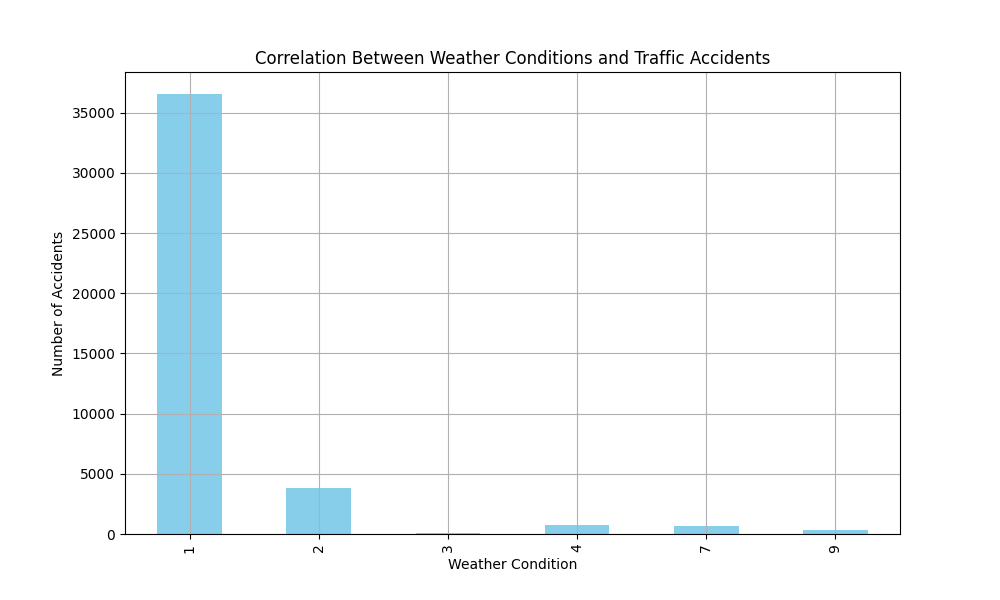

This screenshot's page, from the dashboard's own definition file:
{"tool":"tableau","page":{"name":"Dashboard 1","canvas":[1000,1000],"units":"permille","ordinal":0},"visuals":[{"type":"worksheet","title":"Sheet 2","mark":"Bar","rows":["count"],"cols":["date","date"],"box":[1.8,480.7,991,499.4]}]}

Visuals, with their boxes on the dashboard's canvas, which has no fixed pixel size, in thousandths of its width and height (x1, y1, x2, y2). These are canvas units, not pixel positions in the 1000x600 screenshot, which may show the page scaled, cropped or inside an application window:
"Sheet 2" worksheet (Bar marks): Rect(2, 481, 993, 980)
